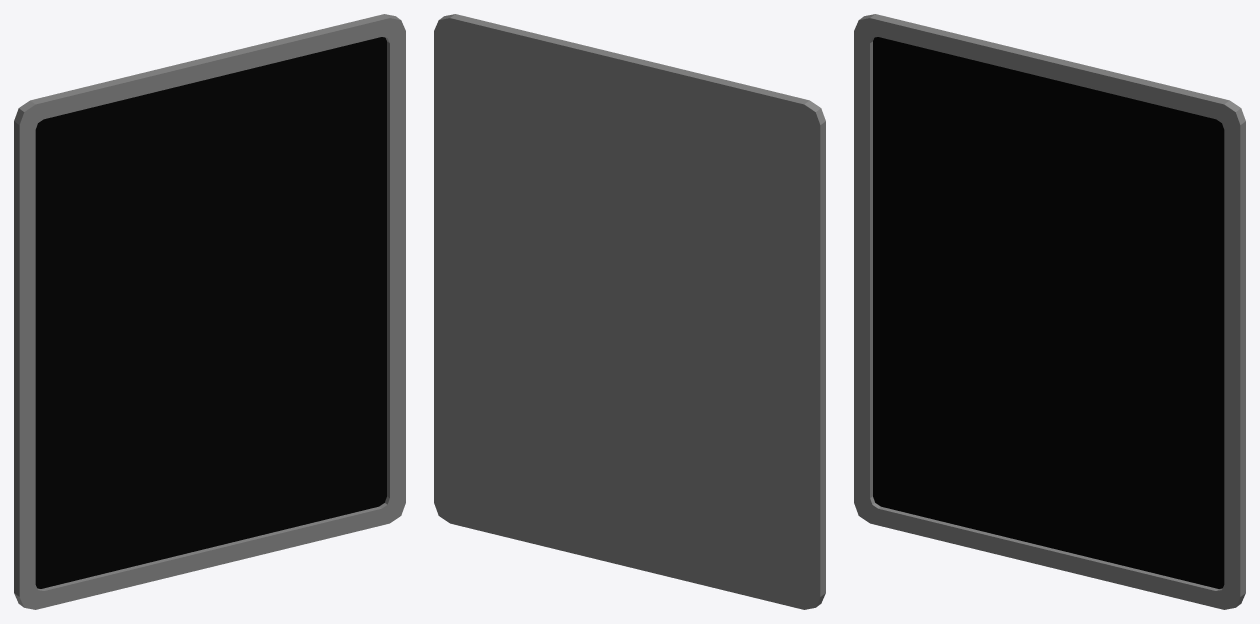
File: Map.glb
3 renders of one model, left to right at view 1: azimuth 30°, elevation 25°; view 2: azimuth 150°, elevation 25°; view 3: azimuth 330°, elevation 25°, orthographic.
Parts seen in each view (by area): view 1: Map; view 2: Map; view 3: Map.
Boxes of the visible parts, <box> form: Map: <box>14,14,405,609</box>; Map: <box>434,14,825,609</box>; Map: <box>854,14,1245,609</box>.
Bounding box in the file's own units: 0.24 × 0.3 × 0.006.
1 material, 1 textured.
